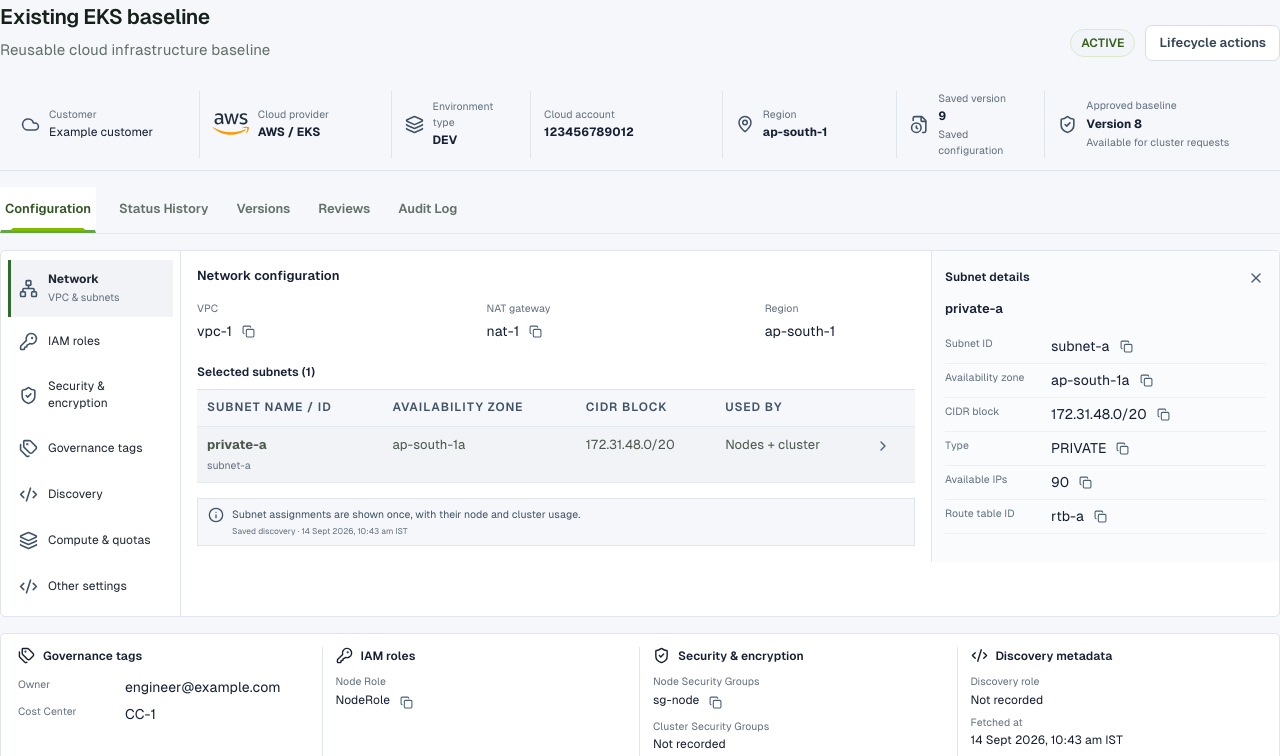
Test: Existing environment explorer › keeps audit restricted to architects and displays the original before/after snapshots
Expected: the heading "Network configuration" is shown, left=197, top=268, right=340, bottom=283
Click the button "Audit Log".
click(428, 210)  # box left=393, top=187, right=462, bottom=233
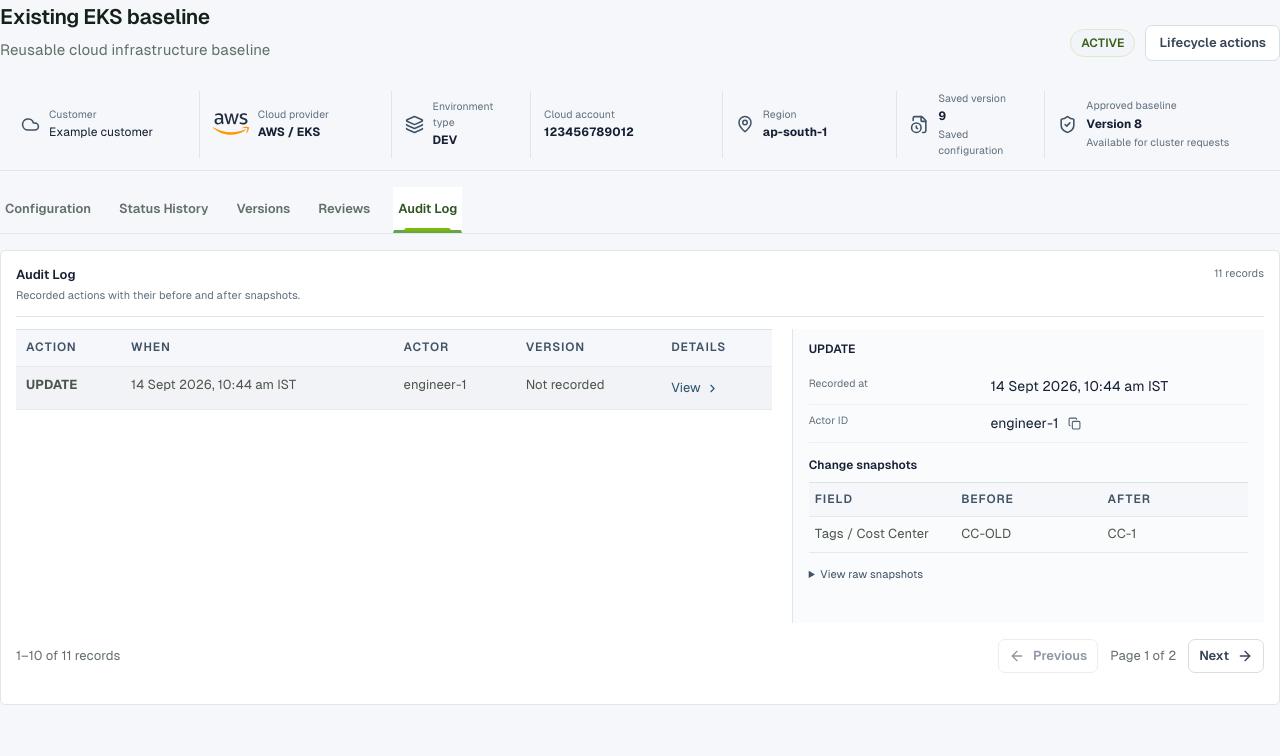
Expected: the heading "Change snapshots" is shown, left=809, top=458, right=917, bottom=472
Click the heading "View raw snapshots".
click(872, 574)  # box left=820, top=568, right=923, bottom=580
(page scrolled)
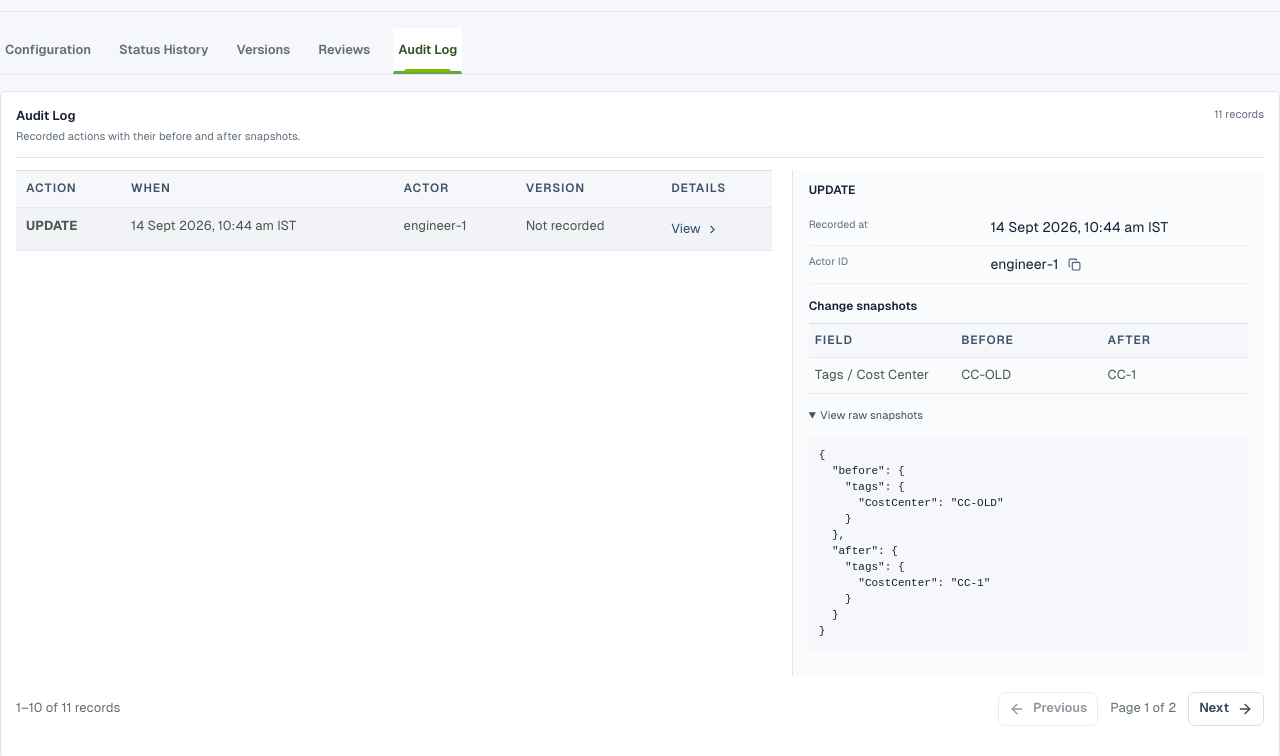
Expected: the text "\"before\"" shows "CC-OLD", left=819, top=449, right=1004, bottom=637
Expected: the text "\"before\"" shows "\"after\"", left=819, top=449, right=1004, bottom=637
